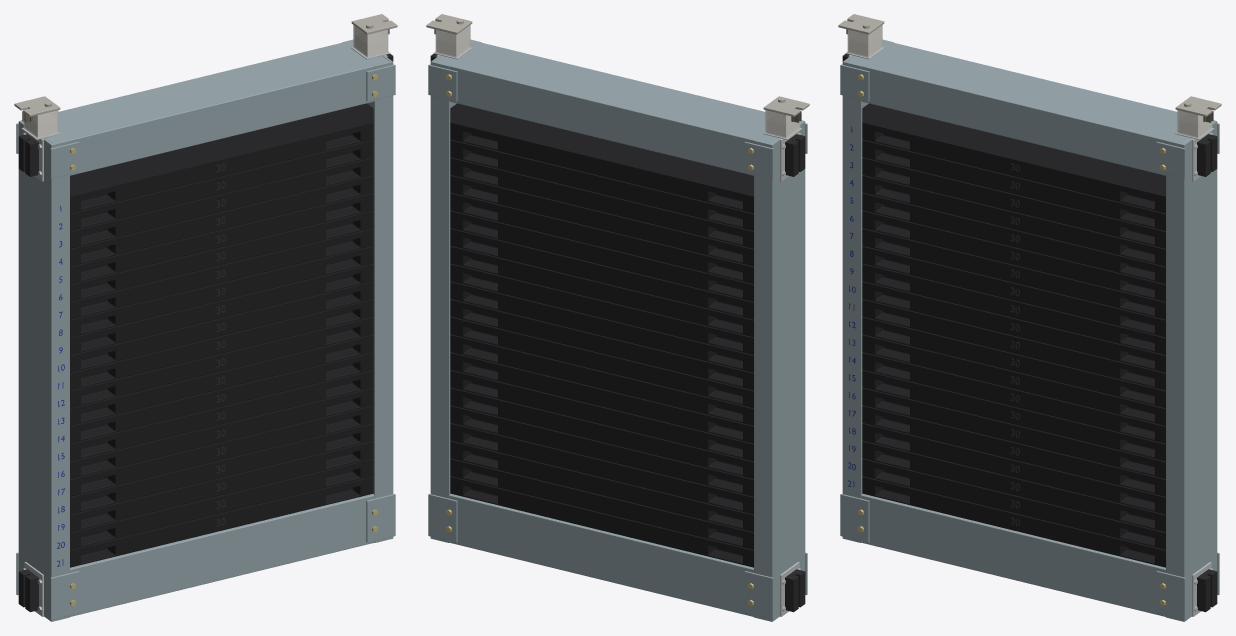
File: counterweight.glb
3 renders of one model, left to right at view 1: azimuth 30°, elevation 25°; view 2: azimuth 150°, elevation 25°; view 3: azimuth 330°, elevation 25°, orthographic.
Visible parts, largest first — view 1: Weights, Frame, GuideShoes, WeightEmboss, OilerBody.001, OilerBody, ShoeBrackets, OilerLid.001, OilerLid; view 2: Weights, Frame, GuideShoes, OilerBody.001, OilerBody, ShoeBrackets, OilerLid.001, OilerLid; view 3: Weights, Frame, GuideShoes, WeightEmboss, OilerBody, OilerBody.001, ShoeBrackets, OilerLid, OilerLid.001.
Boxes of the visible parts, bbox=[...] form: Weights: bbox=[70, 103, 373, 567]; Frame: bbox=[16, 39, 395, 621]; GuideShoes: bbox=[18, 54, 393, 612]; WeightEmboss: bbox=[216, 163, 225, 526]; OilerBody.001: bbox=[353, 25, 388, 57]; OilerBody: bbox=[23, 110, 58, 138]; ShoeBrackets: bbox=[22, 55, 387, 616]; OilerLid.001: bbox=[351, 14, 397, 34]; OilerLid: bbox=[14, 96, 60, 116]; Weights: bbox=[450, 103, 753, 567]; Frame: bbox=[428, 39, 807, 621]; GuideShoes: bbox=[430, 54, 805, 612]; OilerBody.001: bbox=[435, 25, 470, 57]; OilerBody: bbox=[765, 110, 800, 138]; ShoeBrackets: bbox=[436, 55, 801, 616]; OilerLid.001: bbox=[426, 14, 472, 34]; OilerLid: bbox=[763, 96, 809, 116]; Weights: bbox=[862, 103, 1165, 567]; Frame: bbox=[840, 39, 1219, 621]; GuideShoes: bbox=[842, 54, 1217, 612]; WeightEmboss: bbox=[1010, 163, 1019, 526]; OilerBody: bbox=[847, 25, 882, 57]; OilerBody.001: bbox=[1177, 110, 1212, 138]; ShoeBrackets: bbox=[848, 55, 1213, 616]; OilerLid: bbox=[838, 14, 884, 34]; OilerLid.001: bbox=[1175, 96, 1221, 116].
Size of the model in its own units: 1.29 by 1.7 by 0.228.
